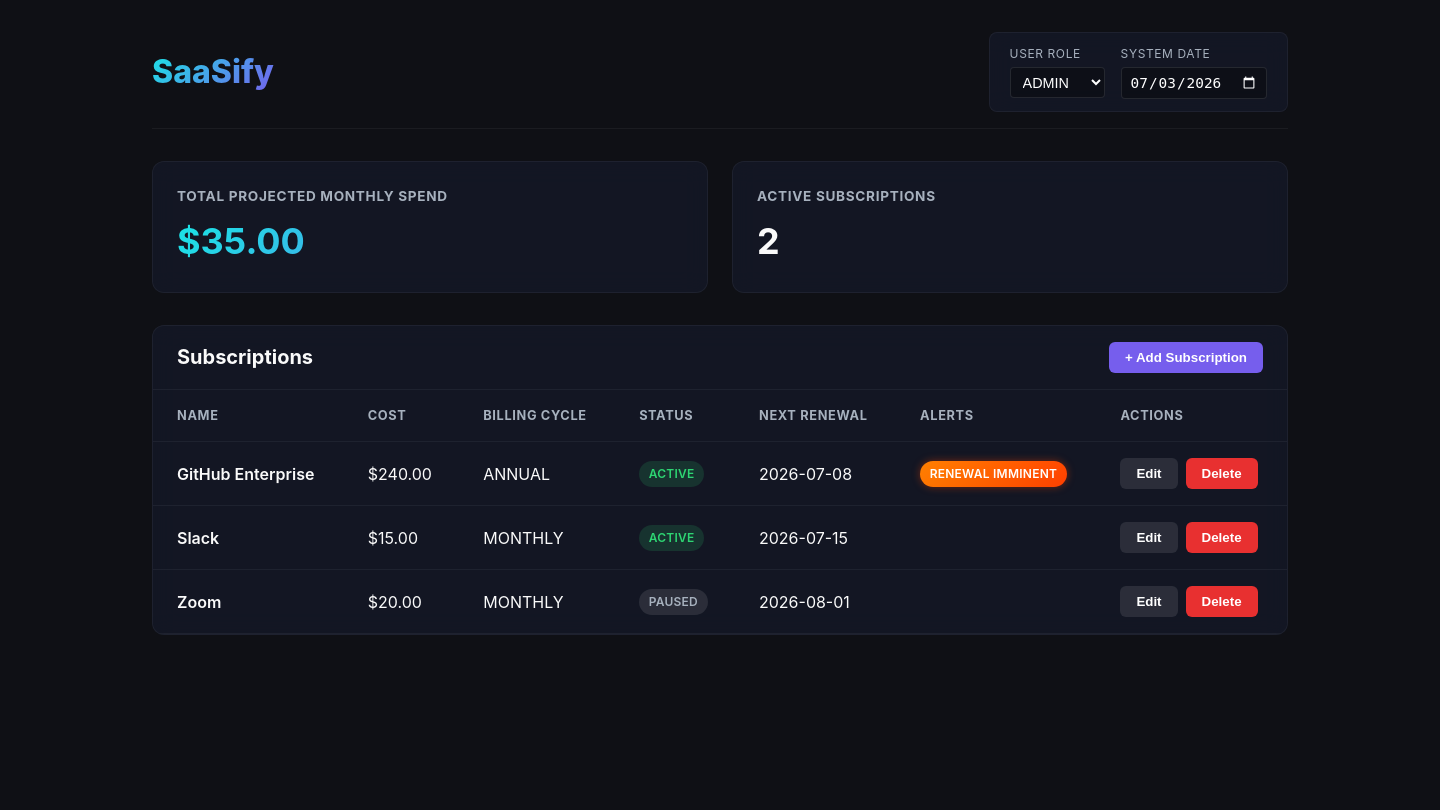
App Integration › opens and closes SubscriptionModal correctly
The image size is (1440, 810).
Note: Get all edit buttons and click the first one (GitHub Enterprise)
Step 1. Click the button "Edit" in the row of "GitHub Enterprise" → (1149, 474), box 1120,458 -> 1178,489
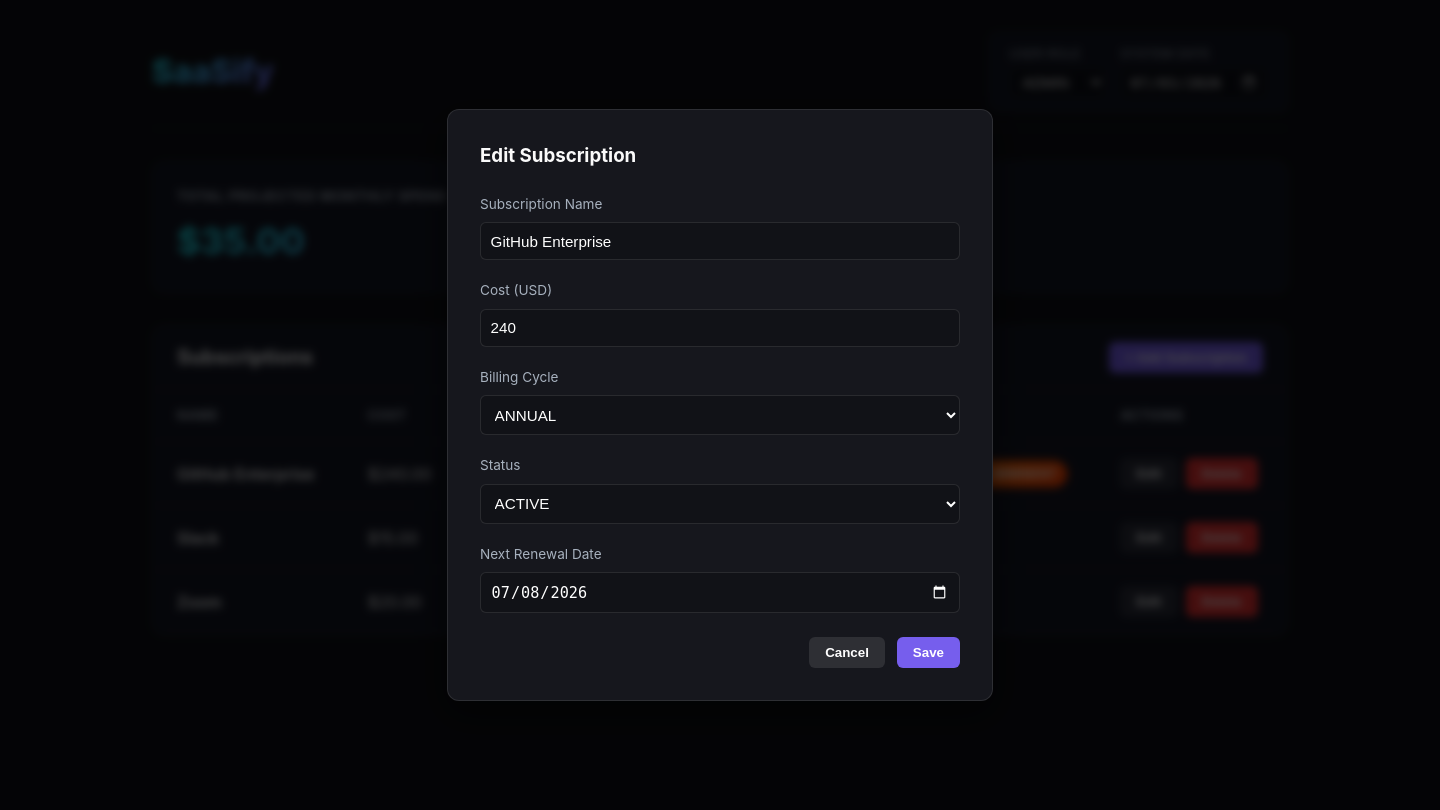
expect the heading "Edit Subscription" is shown: met, box 480,144 -> 636,166
expect the field labelled "Subscription Name" holds "GitHub Enterprise": met, box 480,222 -> 960,260
Note: Click the Cancel button to close the modal
Step 2. Click the button "Cancel" → (847, 653), box 809,638 -> 885,668
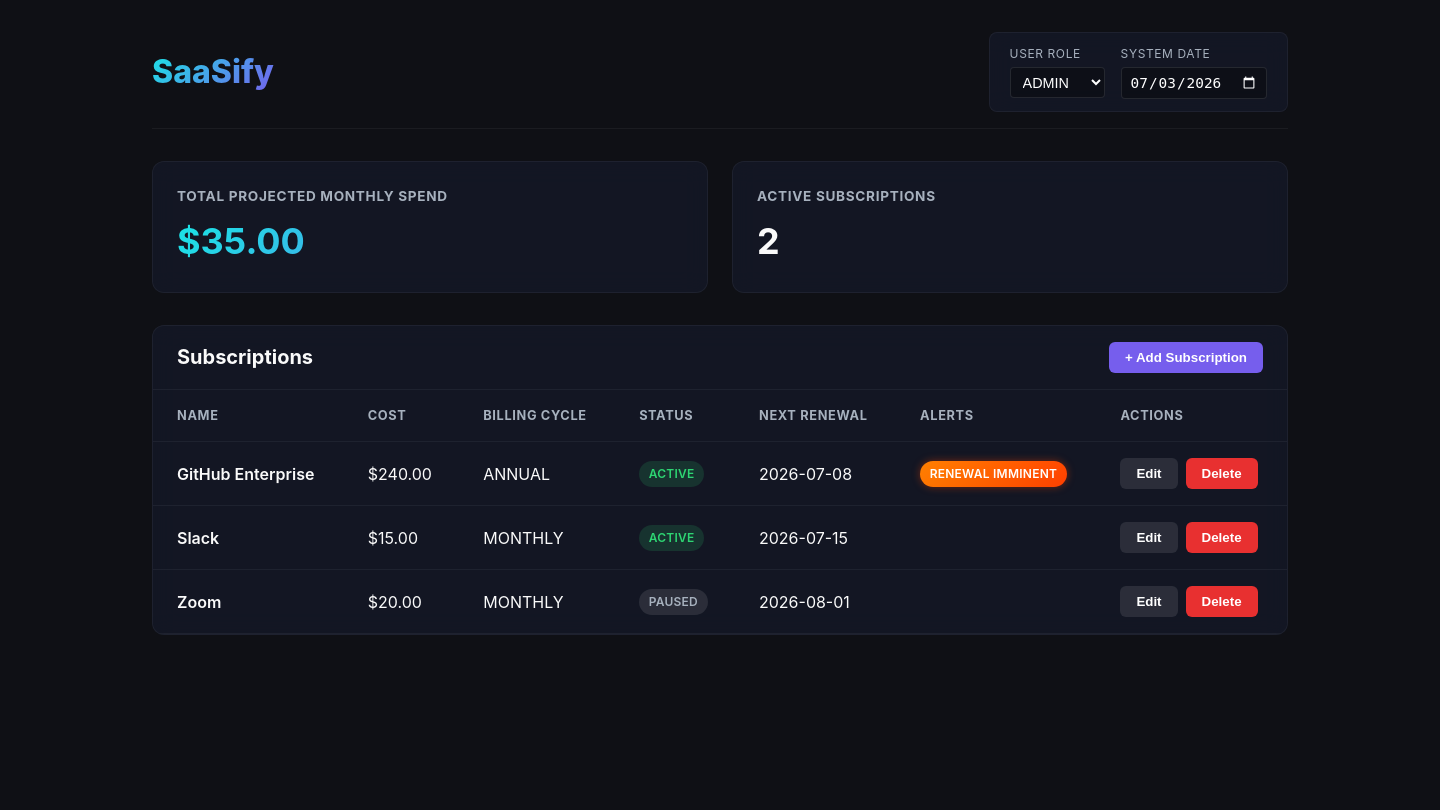
expect the heading "Edit Subscription" is gone: met
